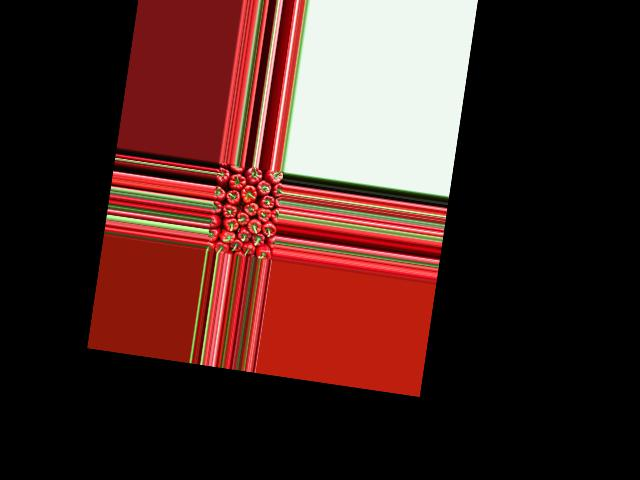bell_pepper: (257, 243, 272, 259)
